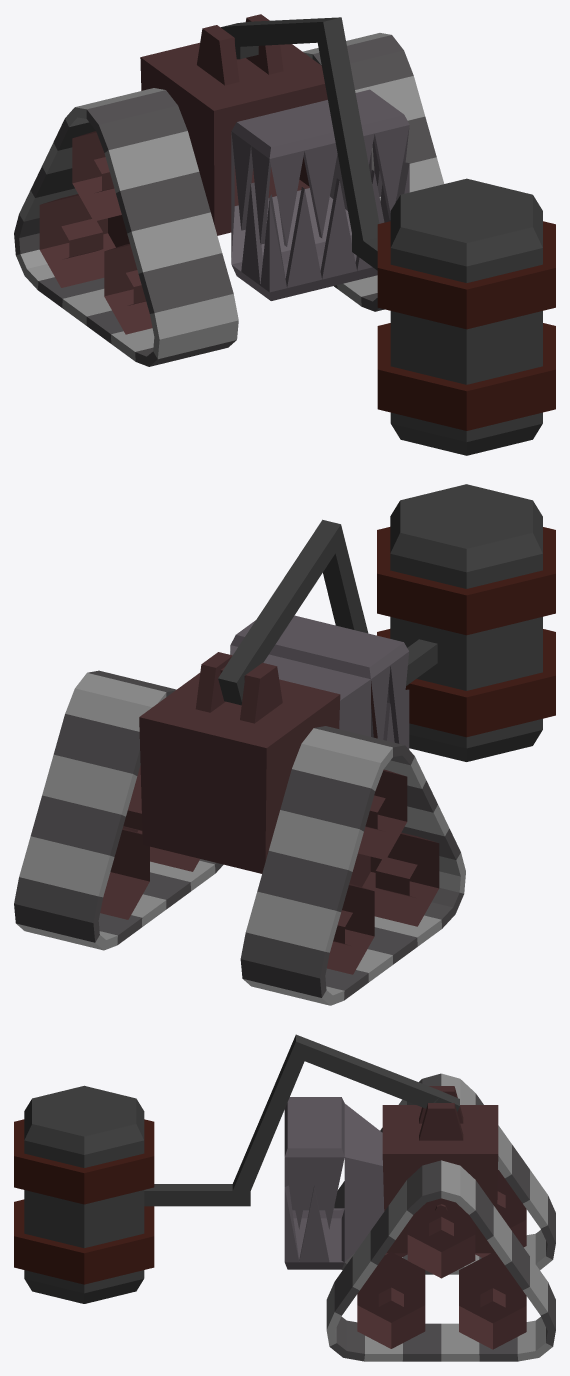
The model's file is HammerBotParts.glb.
3 renders of one model, top to bottom at view 1: azimuth 30°, elevation 25°; view 2: azimuth 150°, elevation 25°; view 3: azimuth 270°, elevation 25°, orthographic. The views are drawn at different scales.
Visible parts, largest first — view 1: Hammer, Head_Wheels, Track.001, Track; view 2: Head_Wheels, Hammer, Track.001, Track; view 3: Head_Wheels, Hammer, Track, Track.001.
Part boxes in pixels (x1,y1,x2,y2): Hammer: (221, 17, 555, 455); Head_Wheels: (39, 14, 409, 334); Track.001: (14, 88, 238, 366); Track: (303, 33, 444, 311); Head_Wheels: (100, 615, 439, 974); Hammer: (218, 484, 555, 761); Track.001: (240, 726, 465, 1005); Track: (14, 670, 223, 950); Head_Wheels: (284, 1086, 526, 1349); Hammer: (14, 1034, 459, 1303); Track: (326, 1160, 555, 1361); Track.001: (334, 1073, 555, 1274).
Size of the model in its own units: 1.04 by 1.09 by 2.02.
